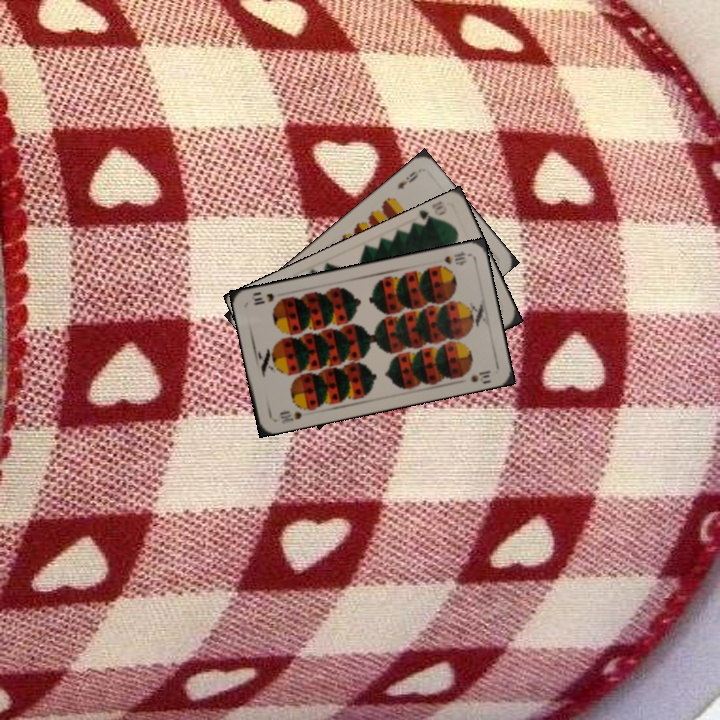E9: (393, 167, 421, 192)
G10: (413, 201, 450, 228)
S10: (439, 247, 471, 267), (275, 407, 304, 427)
